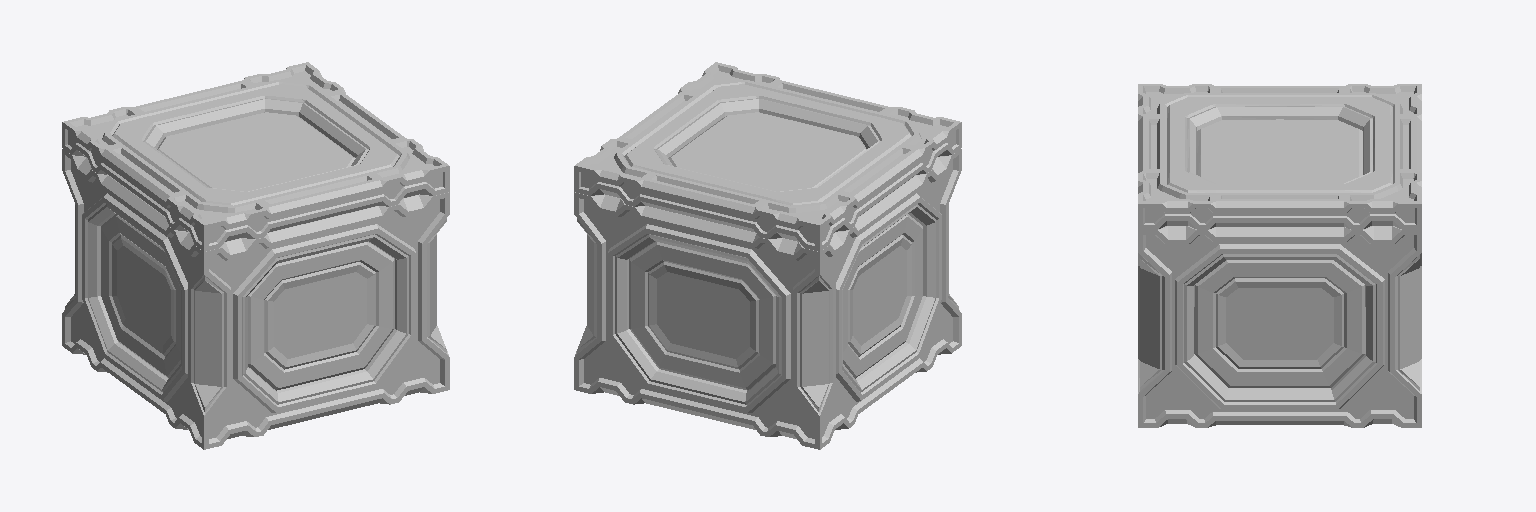
File: SciFiCrate.obj
3 views of the same model, side by side, from view 1: azimuth 30°, elevation 25°; view 2: azimuth 150°, elevation 25°; view 3: azimuth 270°, elevation 25° (orthographic).
Visible parts, largest first — view 1: StorageBoxCore_low, StorageBoxTop_low; view 2: StorageBoxCore_low, StorageBoxTop_low; view 3: StorageBoxCore_low, StorageBoxTop_low.
Part boxes in pixels (x1,y1,x2,y2): StorageBoxCore_low: (62,149,449,449); StorageBoxTop_low: (62,62,449,251); StorageBoxCore_low: (574,149,961,449); StorageBoxTop_low: (574,62,961,251); StorageBoxCore_low: (1138,226,1421,427); StorageBoxTop_low: (1138,84,1421,229).
Bounding box in the file's own units: 2 × 1.75 × 2.